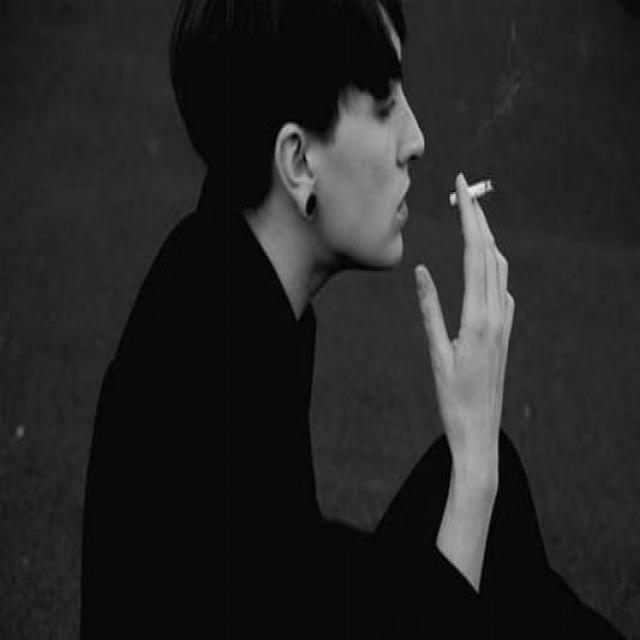cigarette: (447, 176, 497, 213)
